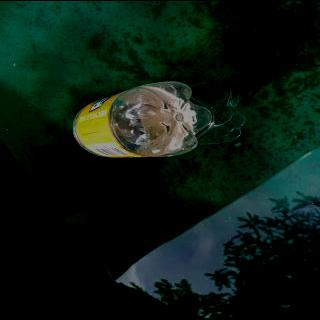bottle: (71, 80, 213, 156)
